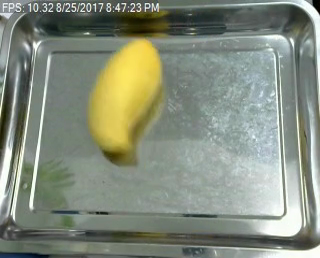Mango: (86, 35, 164, 160)
